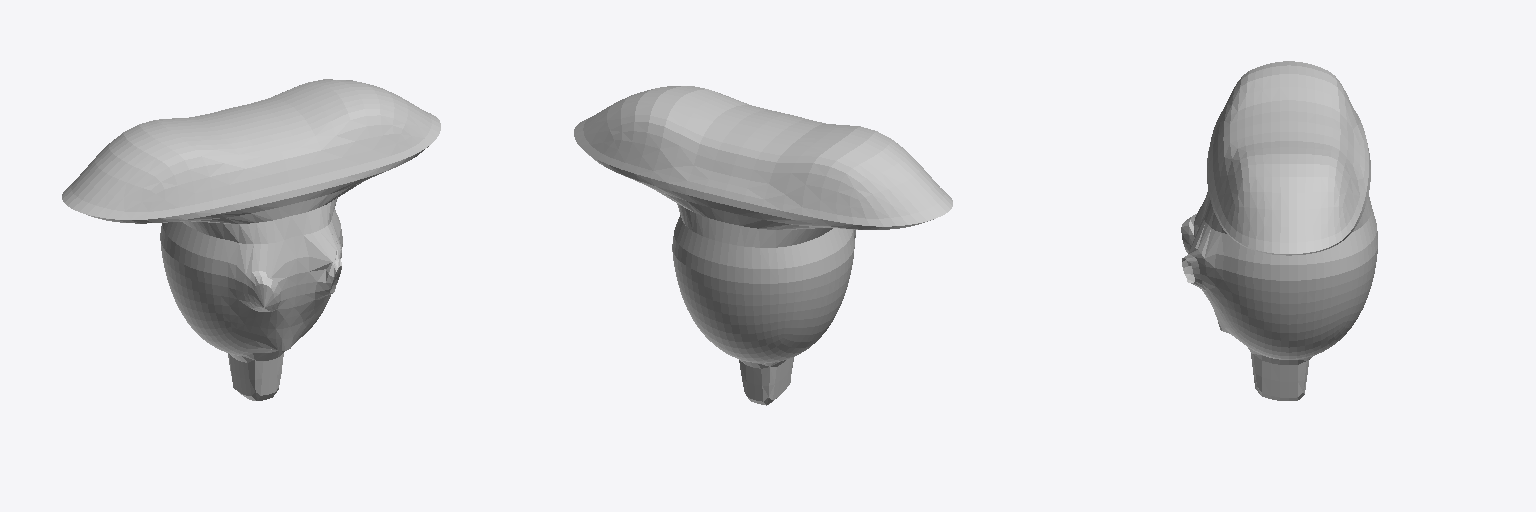
Rendered from ufo.obj.
3 views of the same model, side by side, from view 1: azimuth 30°, elevation 25°; view 2: azimuth 150°, elevation 25°; view 3: azimuth 270°, elevation 25° (orthographic).
Parts seen in each view (by area): view 1: Cube; view 2: Cube; view 3: Cube.
Boxes of the visible parts, x1=… form: Cube: x1=62, y1=79, x2=440, y2=400; Cube: x1=574, y1=86, x2=952, y2=405; Cube: x1=1181, y1=61, x2=1377, y2=400.
Bounding box in the file's own units: 3.98 × 2.93 × 1.84.